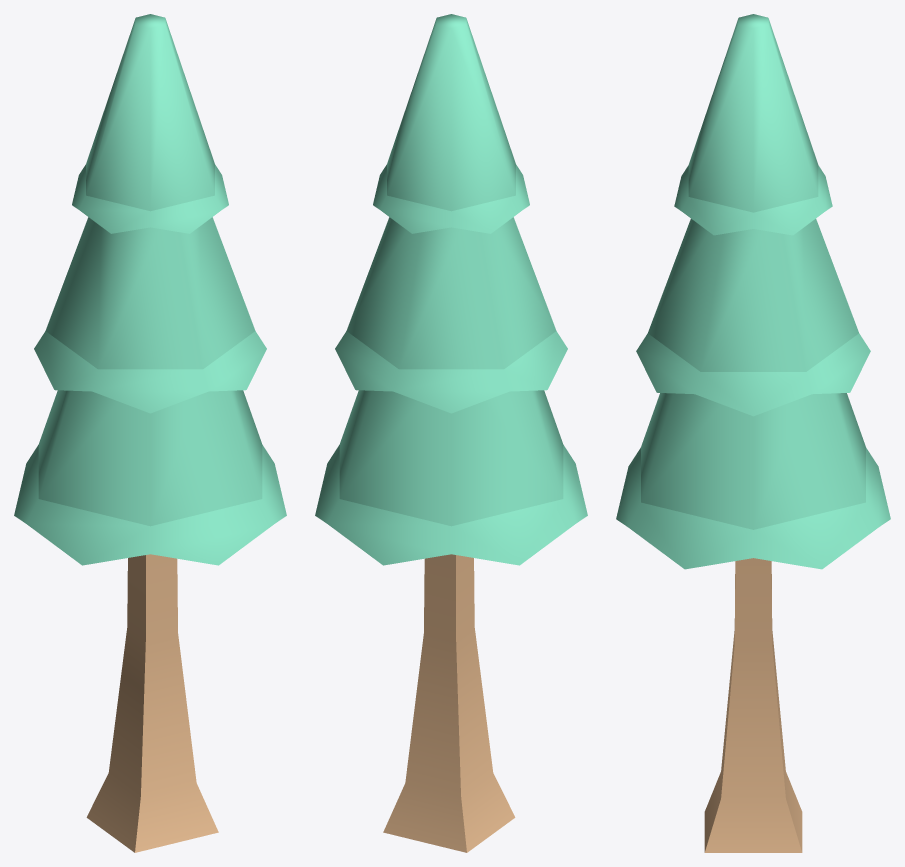
3 renders of one model, left to right at view 1: azimuth 30°, elevation 25°; view 2: azimuth 150°, elevation 25°; view 3: azimuth 270°, elevation 25°, orthographic.
Parts seen in each view (by area): view 1: treeLarge; view 2: treeLarge; view 3: treeLarge.
Part boxes in pixels (<box>): treeLarge: <box>14,14,286,852</box>; treeLarge: <box>315,14,587,852</box>; treeLarge: <box>616,14,890,852</box>.
Size of the model in its own units: 0.5529 by 1.71 by 0.5262.
